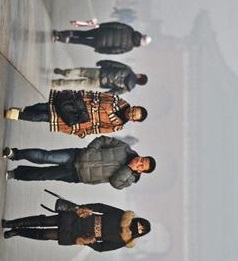person: (1, 198, 153, 254), (3, 137, 157, 191), (4, 90, 148, 139), (51, 16, 150, 57), (51, 59, 148, 97)
